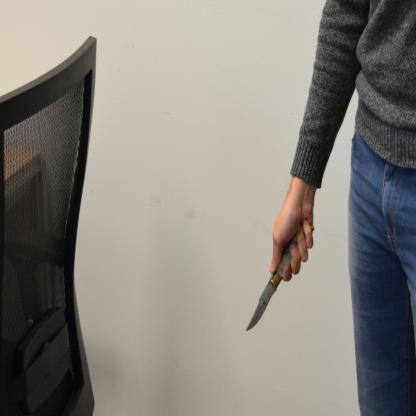knife: (242, 219, 316, 337)
